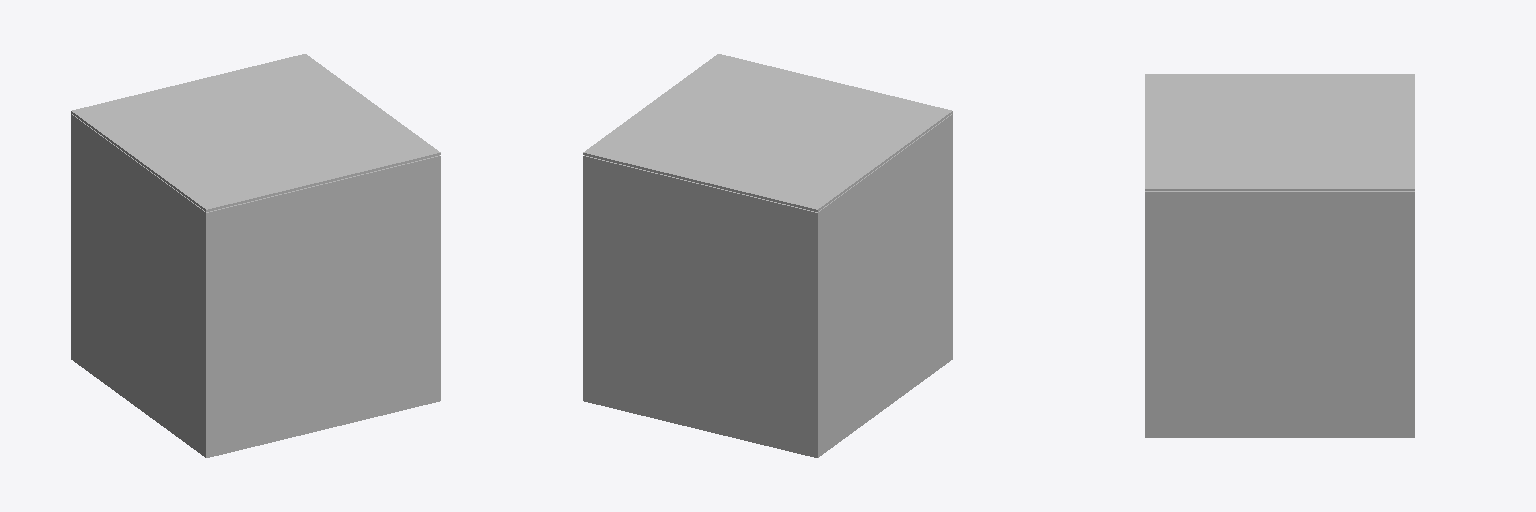
The model's file is water_top.obj.
3 views of the same model, side by side, from view 1: azimuth 30°, elevation 25°; view 2: azimuth 150°, elevation 25°; view 3: azimuth 270°, elevation 25° (orthographic).
Visible parts, largest first — view 1: Cube.001, Plane; view 2: Cube.001, Plane; view 3: Cube.001, Plane.
Part boxes in pixels (x1,y1,x2,y2): Cube.001: (71, 114, 440, 457); Plane: (71, 54, 440, 211); Cube.001: (583, 114, 952, 457); Plane: (583, 54, 952, 211); Cube.001: (1145, 191, 1414, 437); Plane: (1145, 74, 1414, 190).
Size of the model in its own units: 1 by 1.01 by 1.